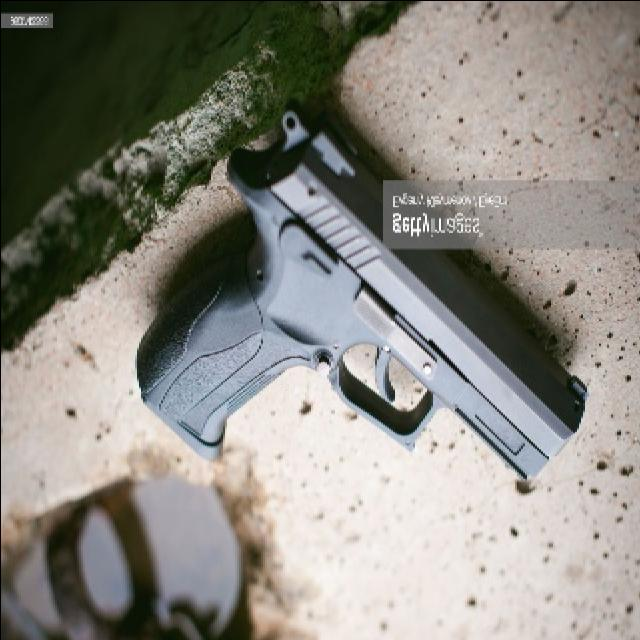handgun: (137, 109, 589, 496)
